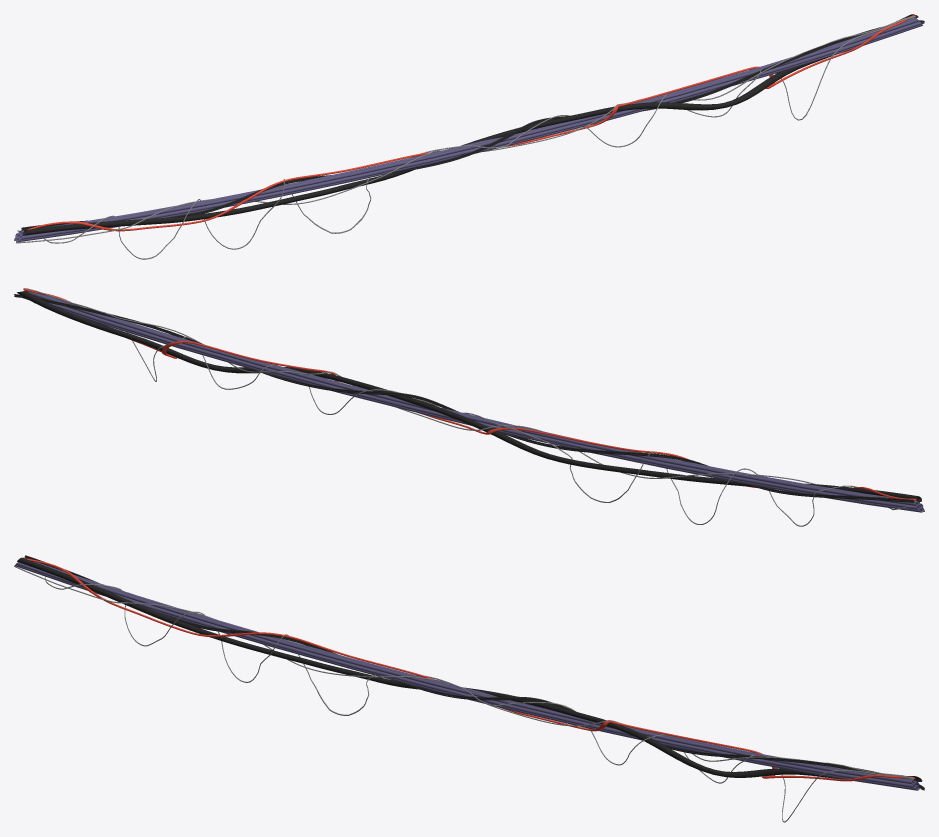
Rendered from longware.fbx.
The picture shows the model from 3 angles, top to bottom: view 1: azimuth 30°, elevation 25°; view 2: azimuth 150°, elevation 25°; view 3: azimuth 330°, elevation 25°; orthographic projection.
Visible parts, largest first — view 1: Big Cables; view 2: Big Cables; view 3: Big Cables.
Boxes of the visible parts, x1,y1,x2,y2 form: Big Cables: (14,14,924,259); Big Cables: (14,288,924,526); Big Cables: (14,555,924,822).
Bounding box in the file's own units: 1459 × 125 × 47.45.
